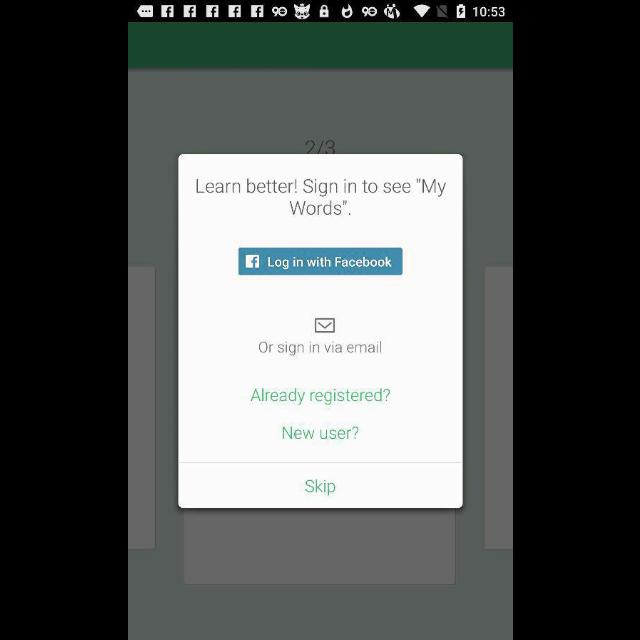icon: (314, 318, 334, 334)
panel: (178, 154, 462, 508)
text: (194, 178, 446, 216), (250, 388, 390, 406), (258, 342, 380, 356), (282, 426, 358, 440), (304, 478, 336, 496)
textbutton: (238, 248, 402, 276)
uppertaskbar: (128, 1, 512, 23)
